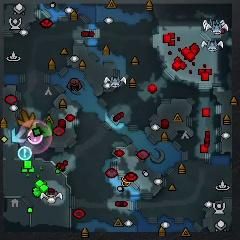Other: (27, 130, 44, 144), (18, 146, 32, 161)
x2: (28, 121, 39, 131)
x3: (12, 128, 26, 143)
x4: (36, 121, 52, 138)
x5: (18, 110, 35, 128)
